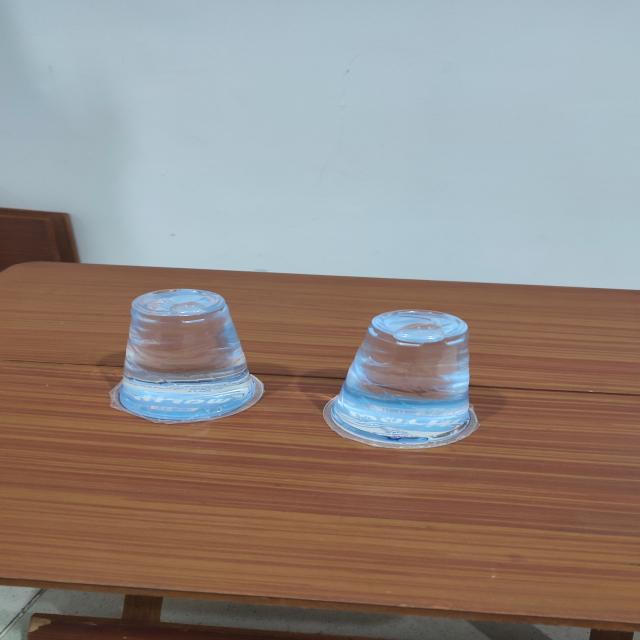air gelas: (319, 297, 485, 455), (100, 285, 266, 419)
